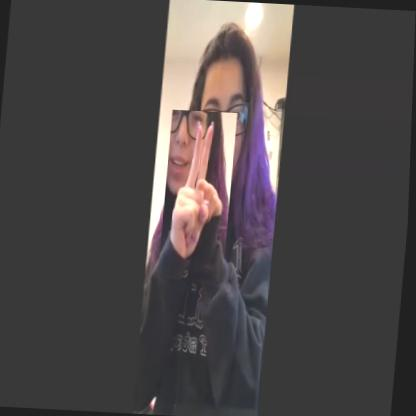NiceToMeetYou: (159, 110, 238, 282)
